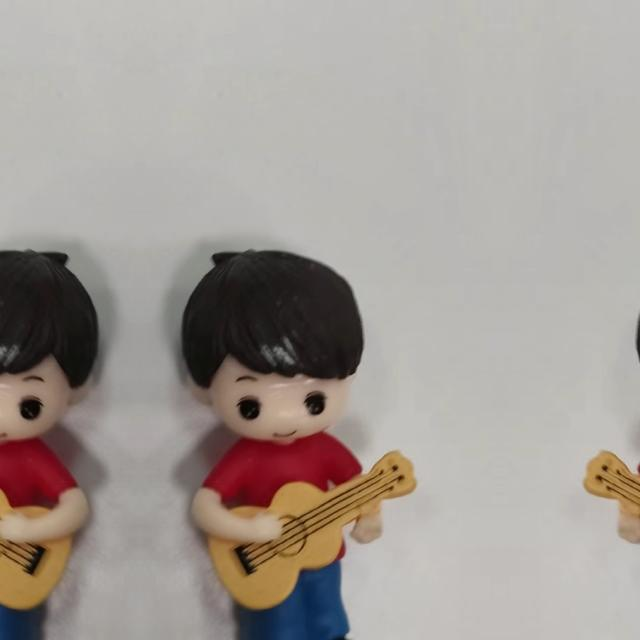man cloth: (195, 432, 375, 568), (0, 432, 85, 567), (625, 432, 640, 567)
man head: (172, 244, 372, 446), (0, 244, 107, 446), (628, 244, 640, 446)
trousers: (228, 566, 362, 636), (0, 566, 51, 636), (638, 566, 640, 636)
